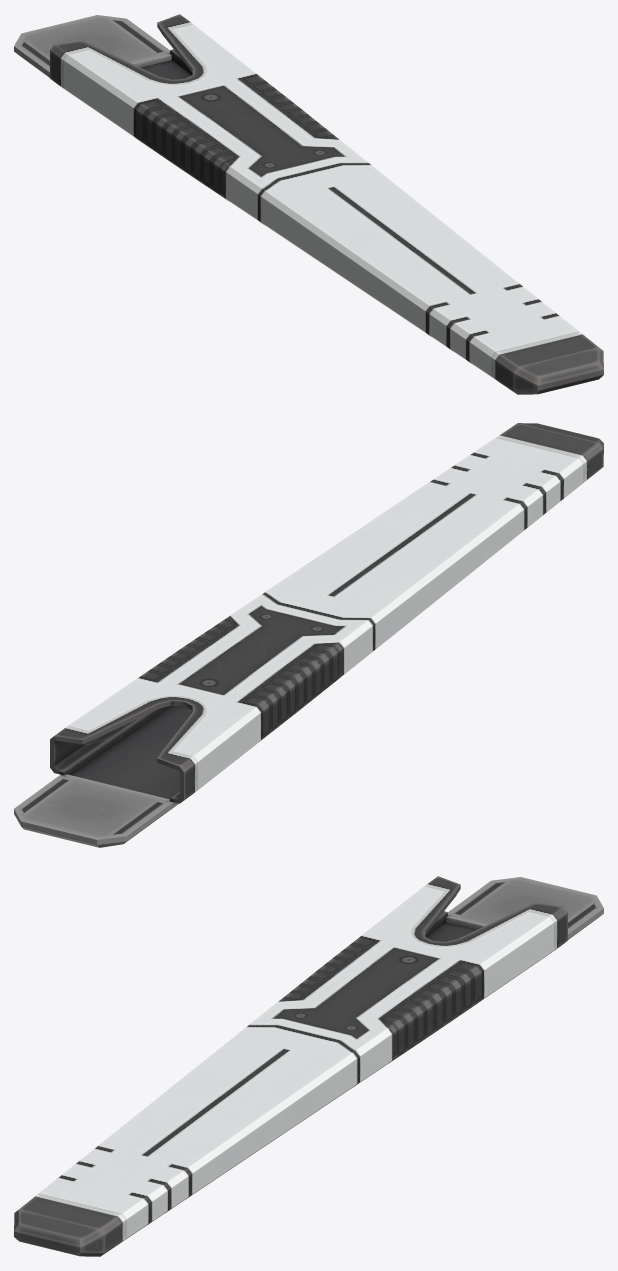
The model's file is MeleeSword01_2.FBX.
The picture shows the model from 3 angles, top to bottom: view 1: azimuth 30°, elevation 25°; view 2: azimuth 150°, elevation 25°; view 3: azimuth 330°, elevation 25°; orthographic projection.
Visible parts, largest first — view 1: MeleeSword01_2; view 2: MeleeSword01_2; view 3: MeleeSword01_2.
Boxes of the visible parts, x1,y1,x2,y2 form: MeleeSword01_2: [14, 14, 603, 394]; MeleeSword01_2: [14, 423, 603, 847]; MeleeSword01_2: [14, 876, 603, 1256].
Size of what is drawn, in the model's own units: 0.153 by 0.051 by 1.01.
